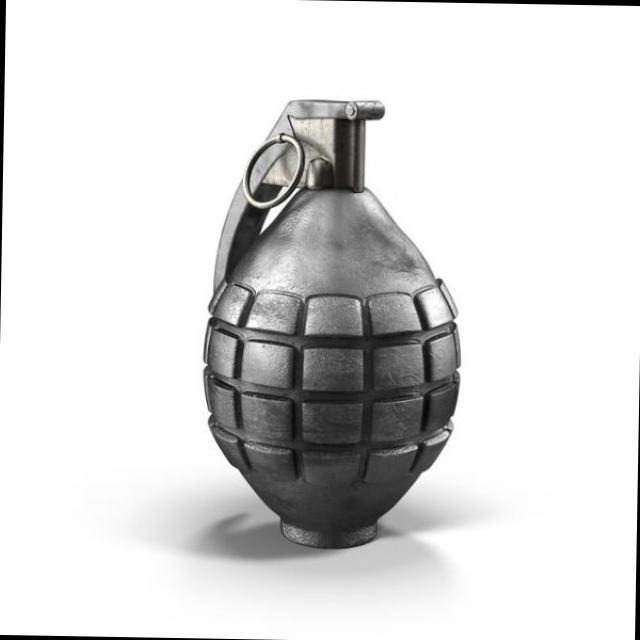grenade: (178, 80, 472, 554)
